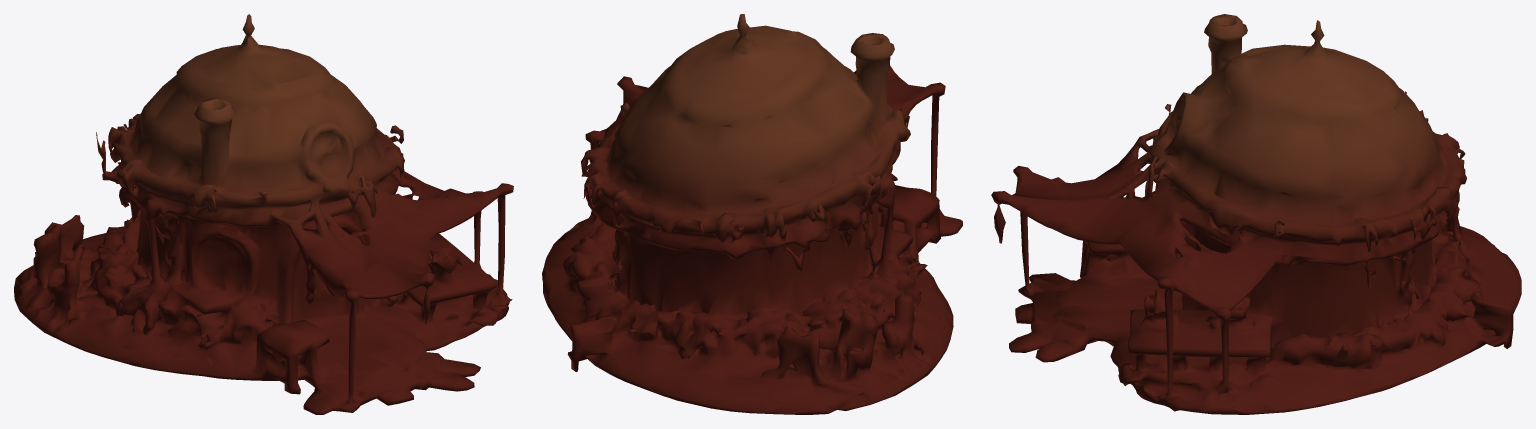
Rendered from round-market-hut.glb.
The picture shows the model from 3 angles, left to right: view 1: azimuth 30°, elevation 25°; view 2: azimuth 150°, elevation 25°; view 3: azimuth 270°, elevation 25°; orthographic projection. The views are drawn at different scales.
Visible parts, largest first — view 1: round-market-hut; view 2: round-market-hut; view 3: round-market-hut.
Part boxes in pixels (bbox=[...]): round-market-hut: bbox=[14, 14, 513, 414]; round-market-hut: bbox=[542, 14, 962, 414]; round-market-hut: bbox=[991, 14, 1521, 414].
Bounding box in the file's own units: 0.03 × 0.0208 × 0.0341.
